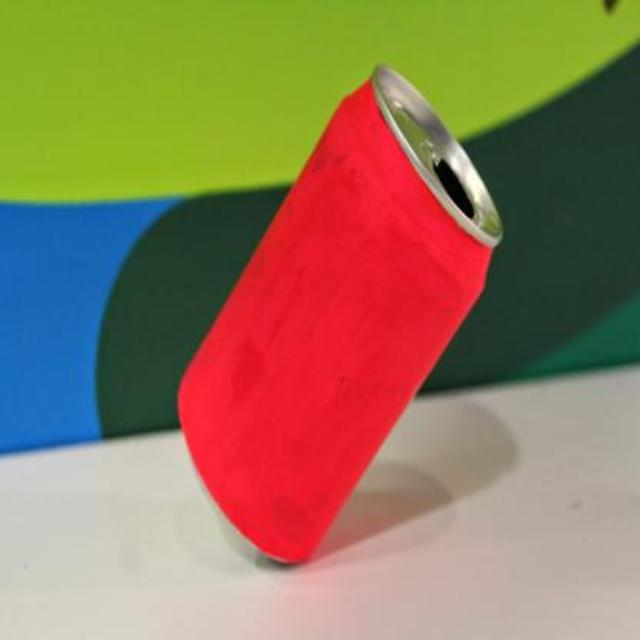metal: (177, 65, 498, 560)
